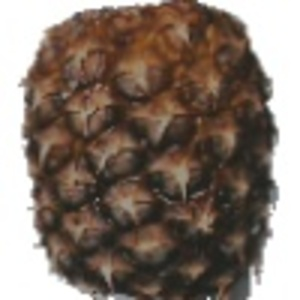abacaxi: (15, 2, 275, 293)
